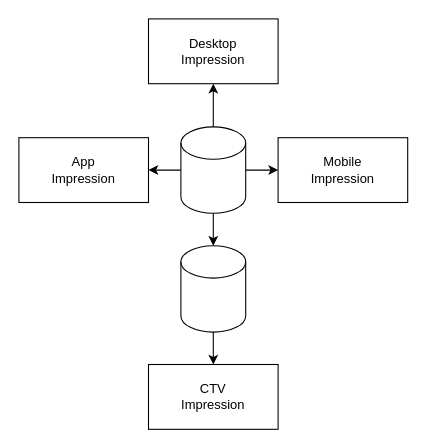
Image size: 427x448. Some labels were removed from this diagram. The centre of each missing label's shape, as x and y in pixels:
"HHID pool" goes at (213,288).
"OneIDx pool" goes at (213,169).
